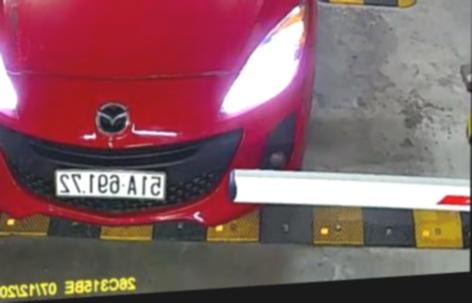License_Plate: (53, 165, 171, 216)
